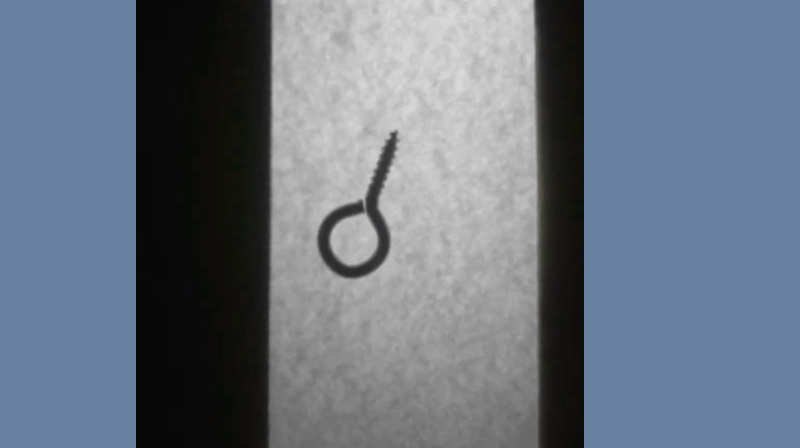O001: (314, 127, 403, 283)
